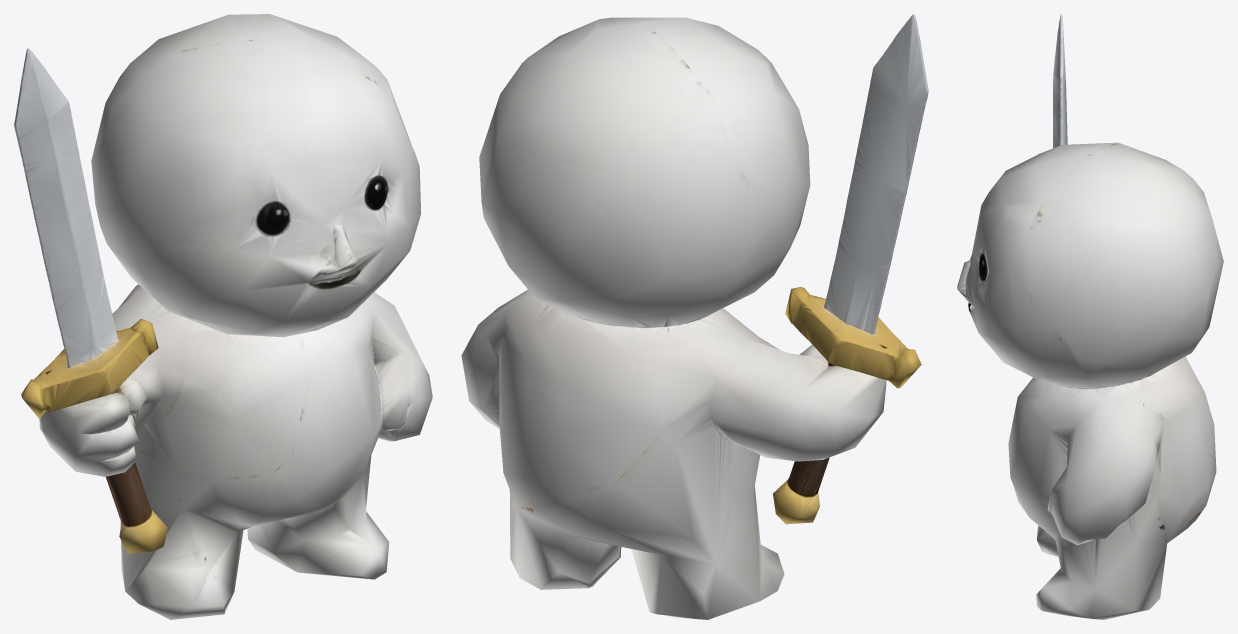
File: pekka.glb
3 views of the same model, side by side, from view 1: azimuth 30°, elevation 25°; view 2: azimuth 150°, elevation 25°; view 3: azimuth 270°, elevation 25° (orthographic). The views are drawn at different scales.
Visible parts, largest first — view 1: unit; view 2: unit; view 3: unit.
Boxes of the visible parts, <box> form: unit: <box>14,14,432,619</box>; unit: <box>461,14,928,619</box>; unit: <box>957,14,1223,619</box>.
Size of the model in its own units: 1.27 by 1.71 by 0.8837.
1 material, 1 textured.
